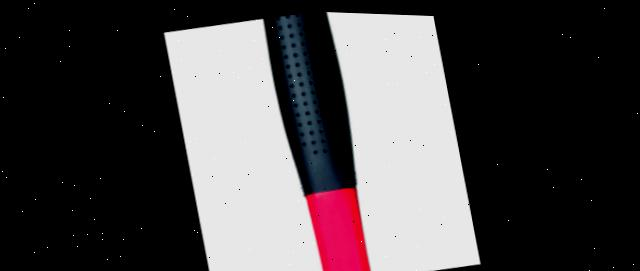hammer: (162, 5, 479, 271)
